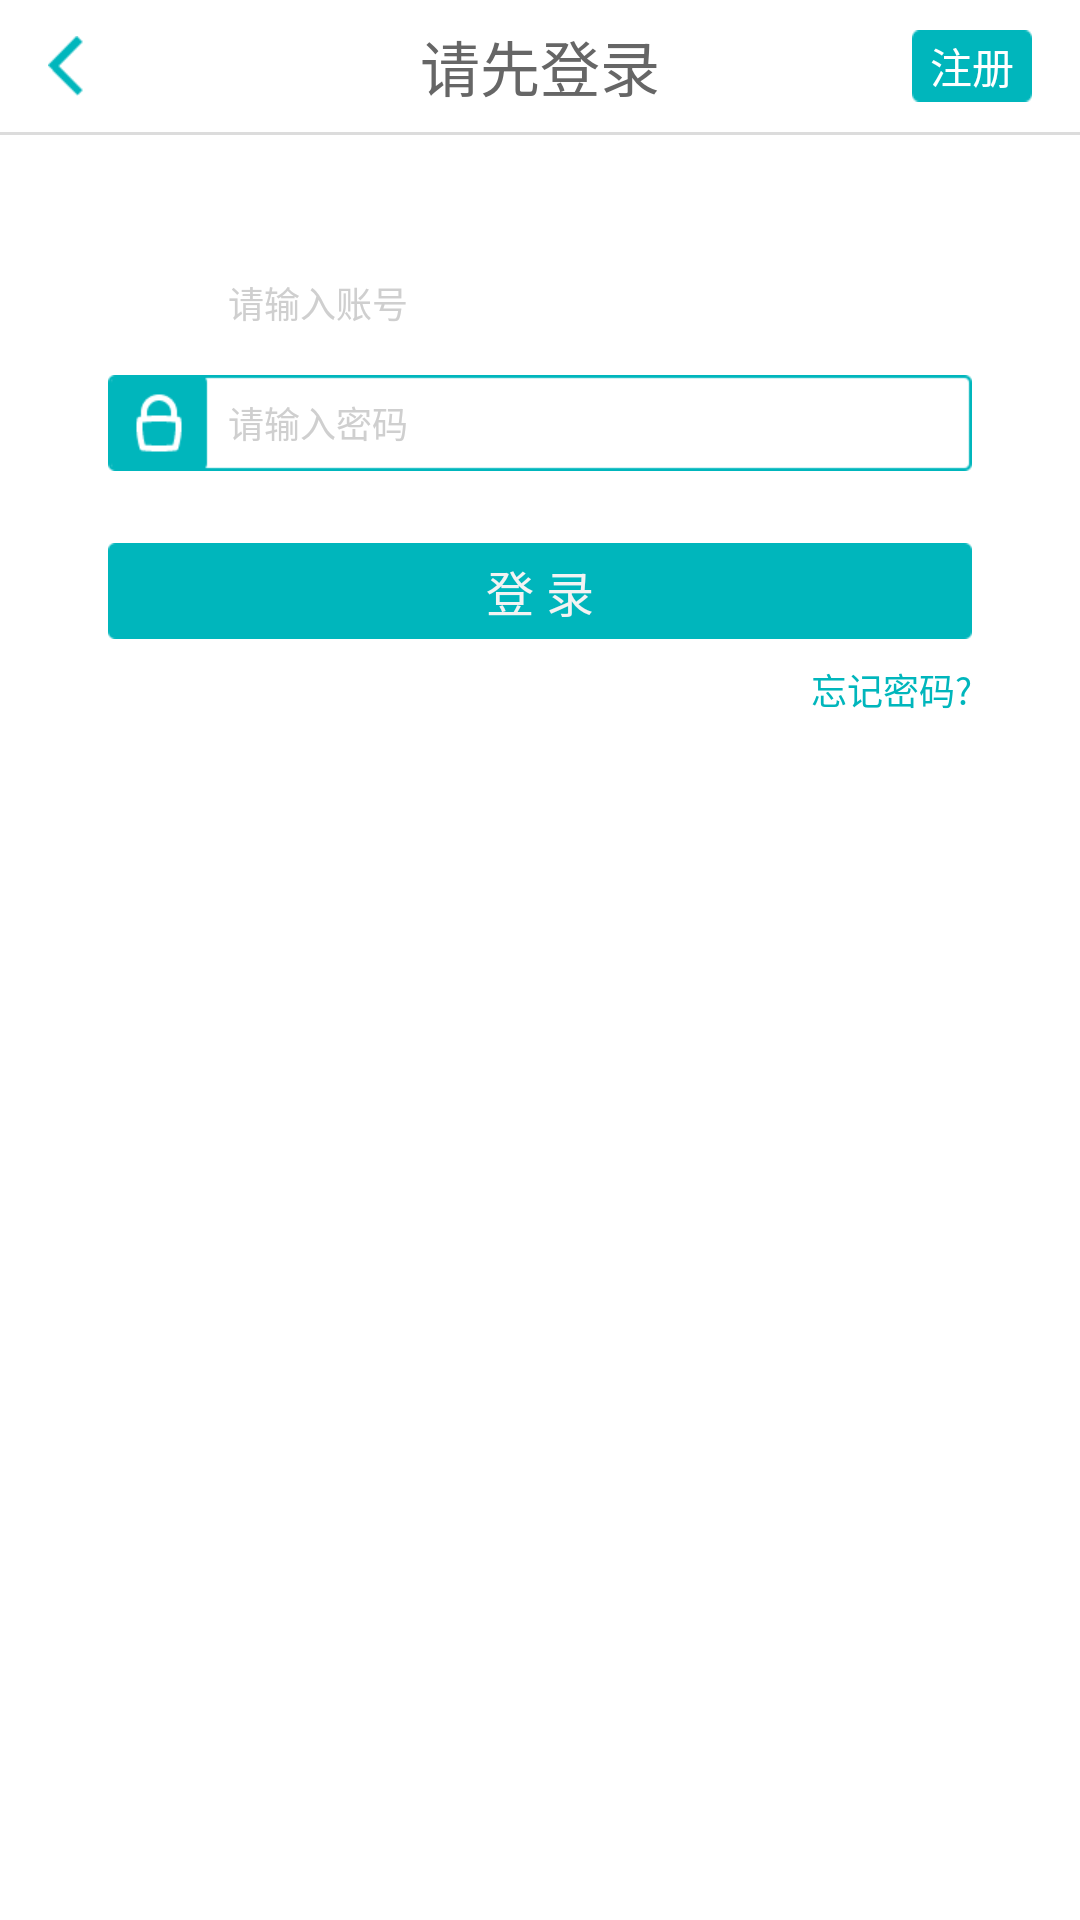

Screen size 1080w x 1920h. Icon name, then its box in pixels as detection(x1, y1, x2, y2):
location back: detection(48, 36, 83, 96)
